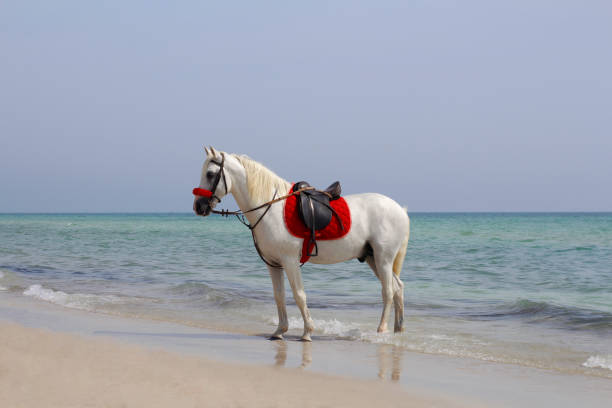Horse: (179, 123, 483, 371)
